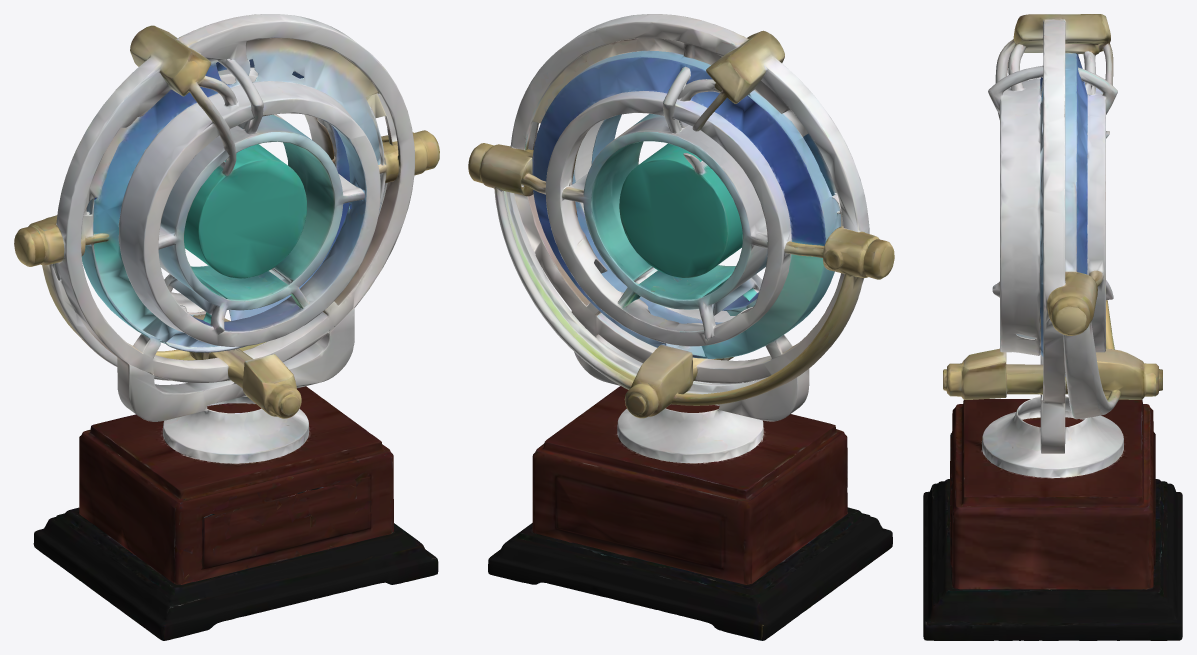
The model's file is trophy-ssat-v2-perf.glb.
3 views of the same model, side by side, from view 1: azimuth 30°, elevation 25°; view 2: azimuth 150°, elevation 25°; view 3: azimuth 270°, elevation 25° (orthographic).
Visible parts, largest first — view 1: world; view 2: world; view 3: world.
Boxes of the visible parts, <box> form: world: <box>14,14,439,640</box>; world: <box>468,14,894,640</box>; world: <box>923,14,1182,640</box>.
Size of the model in its own units: 0.7992 by 1 by 0.4394.
1 material, 1 textured.
